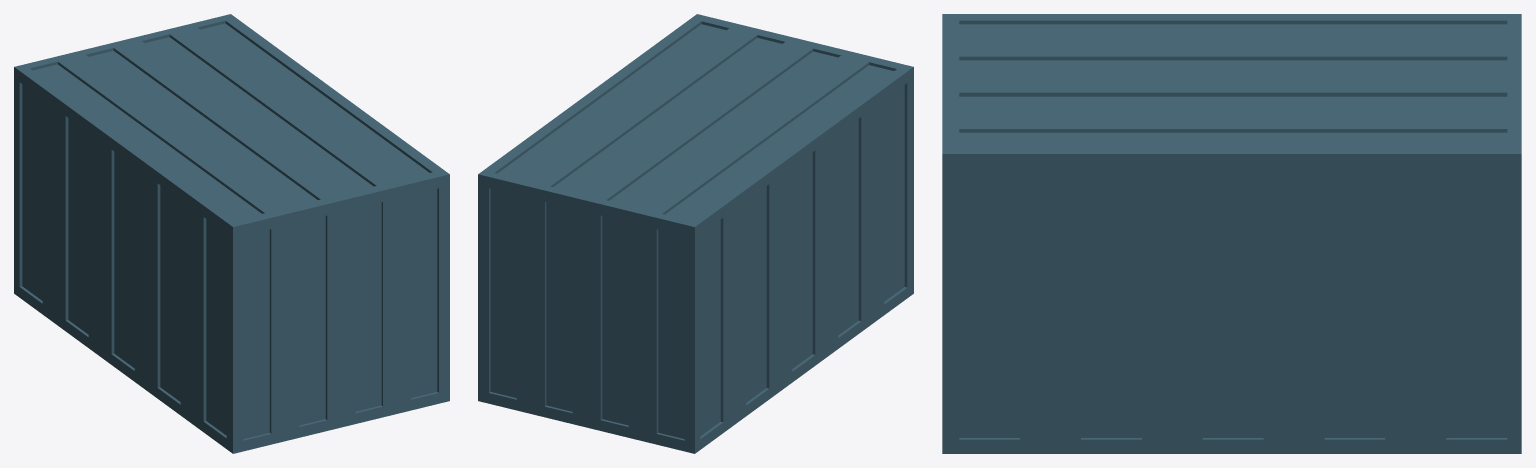
The model's file is Storage-container.glb.
3 renders of one model, left to right at view 1: azimuth 30°, elevation 25°; view 2: azimuth 150°, elevation 25°; view 3: azimuth 270°, elevation 25°, orthographic. The views are drawn at different scales.
Visible parts, largest first — view 1: Cube; view 2: Cube; view 3: Cube.
Boxes of the visible parts, <box> form: Cube: <box>14,14,449,453</box>; Cube: <box>478,14,913,453</box>; Cube: <box>942,14,1521,453</box>.
Size of the model in its own units: 8 by 8 by 14.
